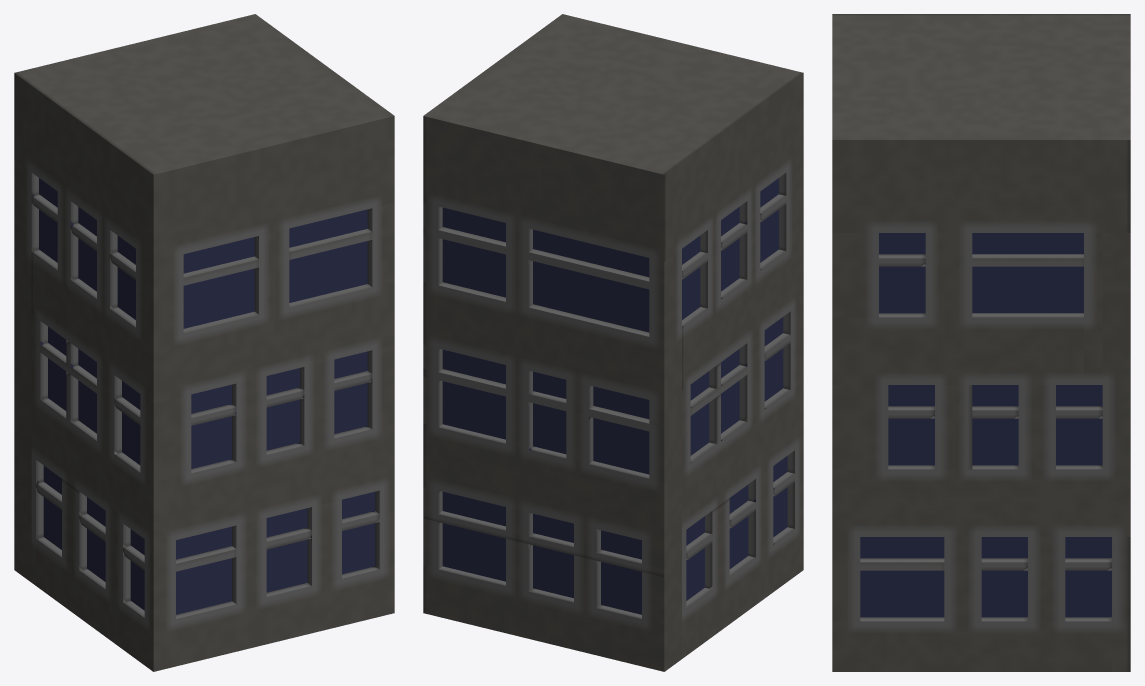
File: budynK_uni_1.dae
The picture shows the model from 3 angles, left to right: view 1: azimuth 30°, elevation 25°; view 2: azimuth 150°, elevation 25°; view 3: azimuth 270°, elevation 25°; orthographic projection. The views are drawn at different scales.
Parts seen in each view (by area): view 1: Content; view 2: Content; view 3: Content.
Boxes of the visible parts, x1,y1,x2,y2 form: Content: [14, 14, 394, 671]; Content: [423, 14, 803, 671]; Content: [832, 14, 1130, 671].
Bounding box in the file's own units: 32 × 63 × 32.
Materials: 1 (1 with a texture image).
